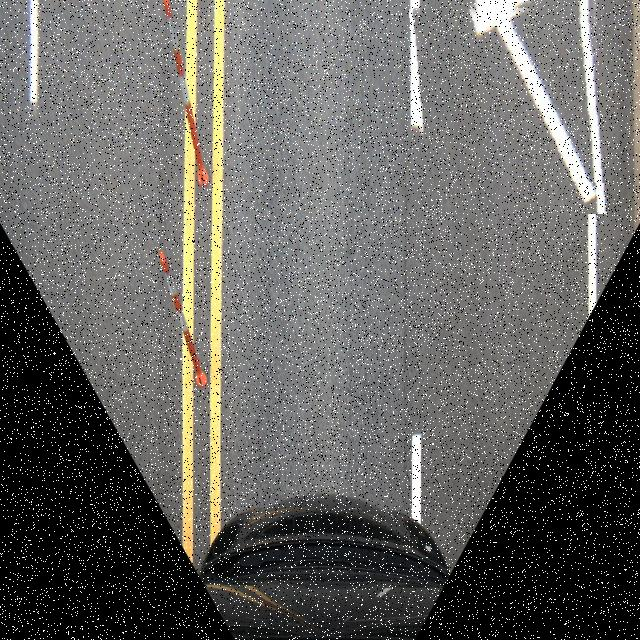chang_lane_left: (412, 0, 607, 214)
